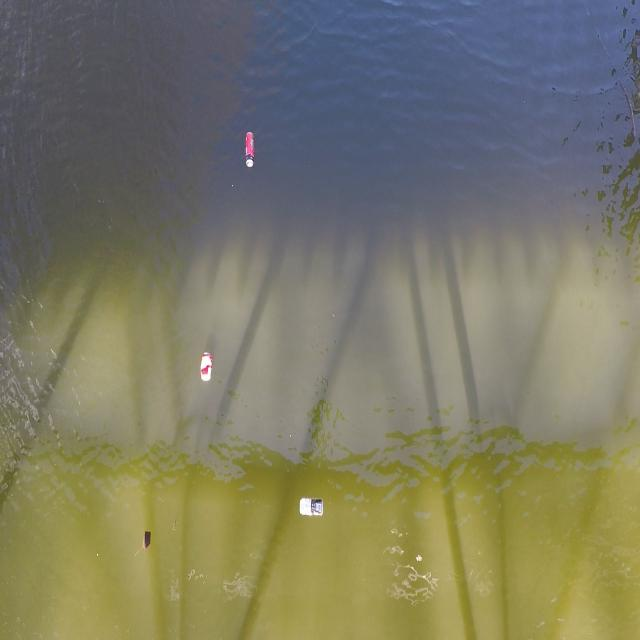Non plastique: (195, 346, 221, 390), (240, 126, 264, 172), (295, 494, 329, 524)
